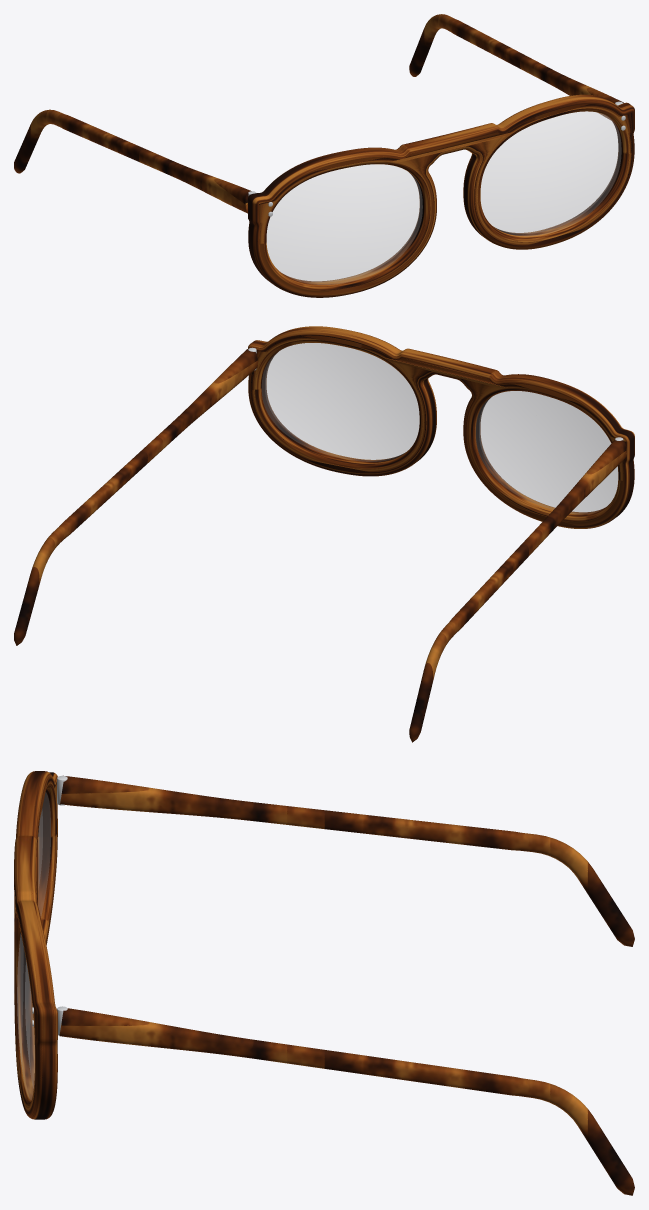
File: nora-m.glb
The picture shows the model from 3 angles, top to bottom: view 1: azimuth 30°, elevation 25°; view 2: azimuth 150°, elevation 25°; view 3: azimuth 270°, elevation 25°; orthographic projection. The views are drawn at different scales.
Visible parts, largest first — view 1: Front, Lens_R, Lens_L, Temple_R, Temple_L; view 2: Front, Lens_L, Lens_R, Temple_L, Temple_R; view 3: Front, Temple_L, Temple_R, Lens_L, Lens_R.
Part boxes in pixels (left/top/right/bottom): Front: left=248, top=94, right=634, bottom=297; Lens_R: left=267, top=164, right=422, bottom=284; Lens_L: left=481, top=111, right=621, bottom=236; Temple_R: left=14, top=109, right=251, bottom=213; Temple_L: left=409, top=14, right=623, bottom=120; Front: left=248, top=326, right=634, bottom=528; Lens_L: left=262, top=343, right=419, bottom=461; Lens_R: left=476, top=391, right=617, bottom=514; Temple_L: left=14, top=349, right=257, bottom=645; Temple_R: left=409, top=440, right=626, bottom=742; Front: left=14, top=771, right=67, bottom=1119; Temple_L: left=59, top=1008, right=634, bottom=1195; Temple_R: left=60, top=775, right=634, bottom=946; Lens_L: left=17, top=934, right=34, bottom=1099; Lens_R: left=38, top=793, right=50, bottom=915.
Bounding box in the file's own units: 0.1371 × 0.0542 × 0.1416.
4 materials, 2 textured.
